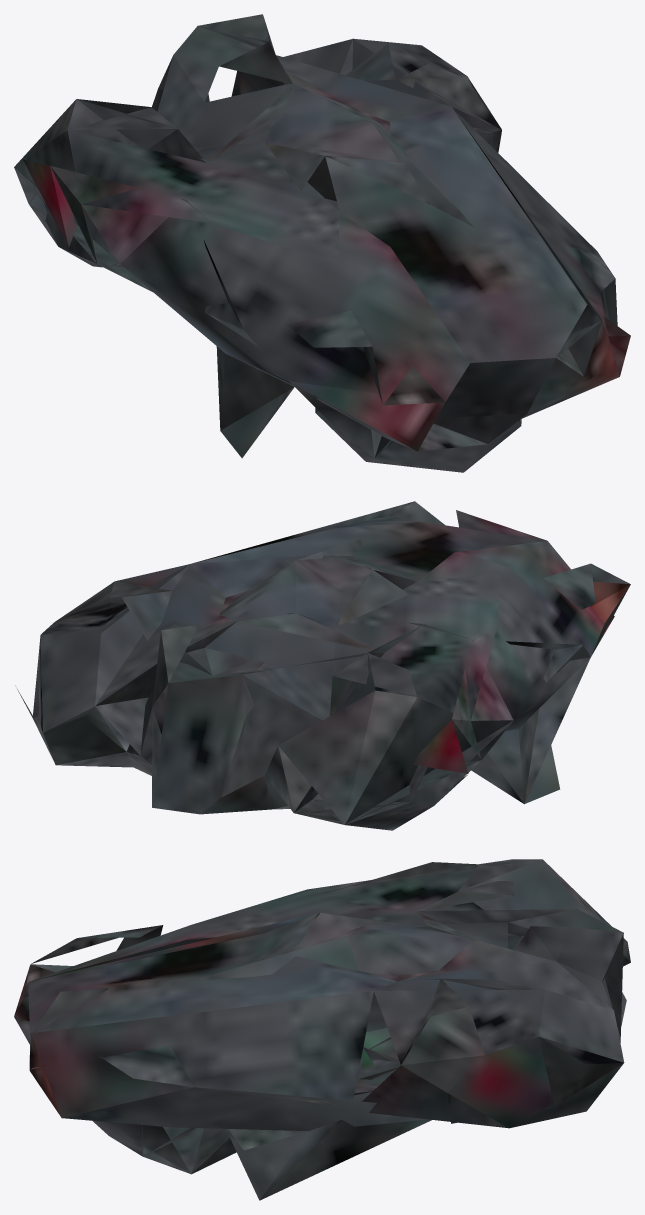
Rendered from enemy_turret_1364897078_lod1.glb.
3 views of the same model, one above another, from view 1: azimuth 30°, elevation 25°; view 2: azimuth 150°, elevation 25°; view 3: azimuth 270°, elevation 25° (orthographic). The views are drawn at different scales.
Bounding box in the file's own units: 4.13 × 2.57 × 5.87.
1 material, 1 textured.
